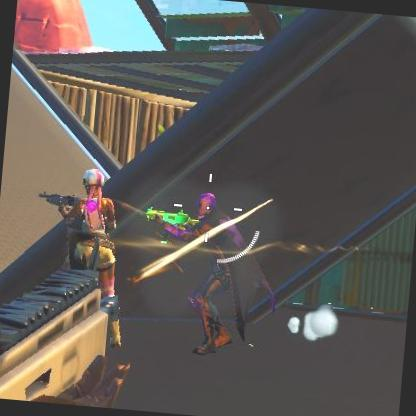person: (170, 191, 250, 366), (65, 166, 127, 276)
